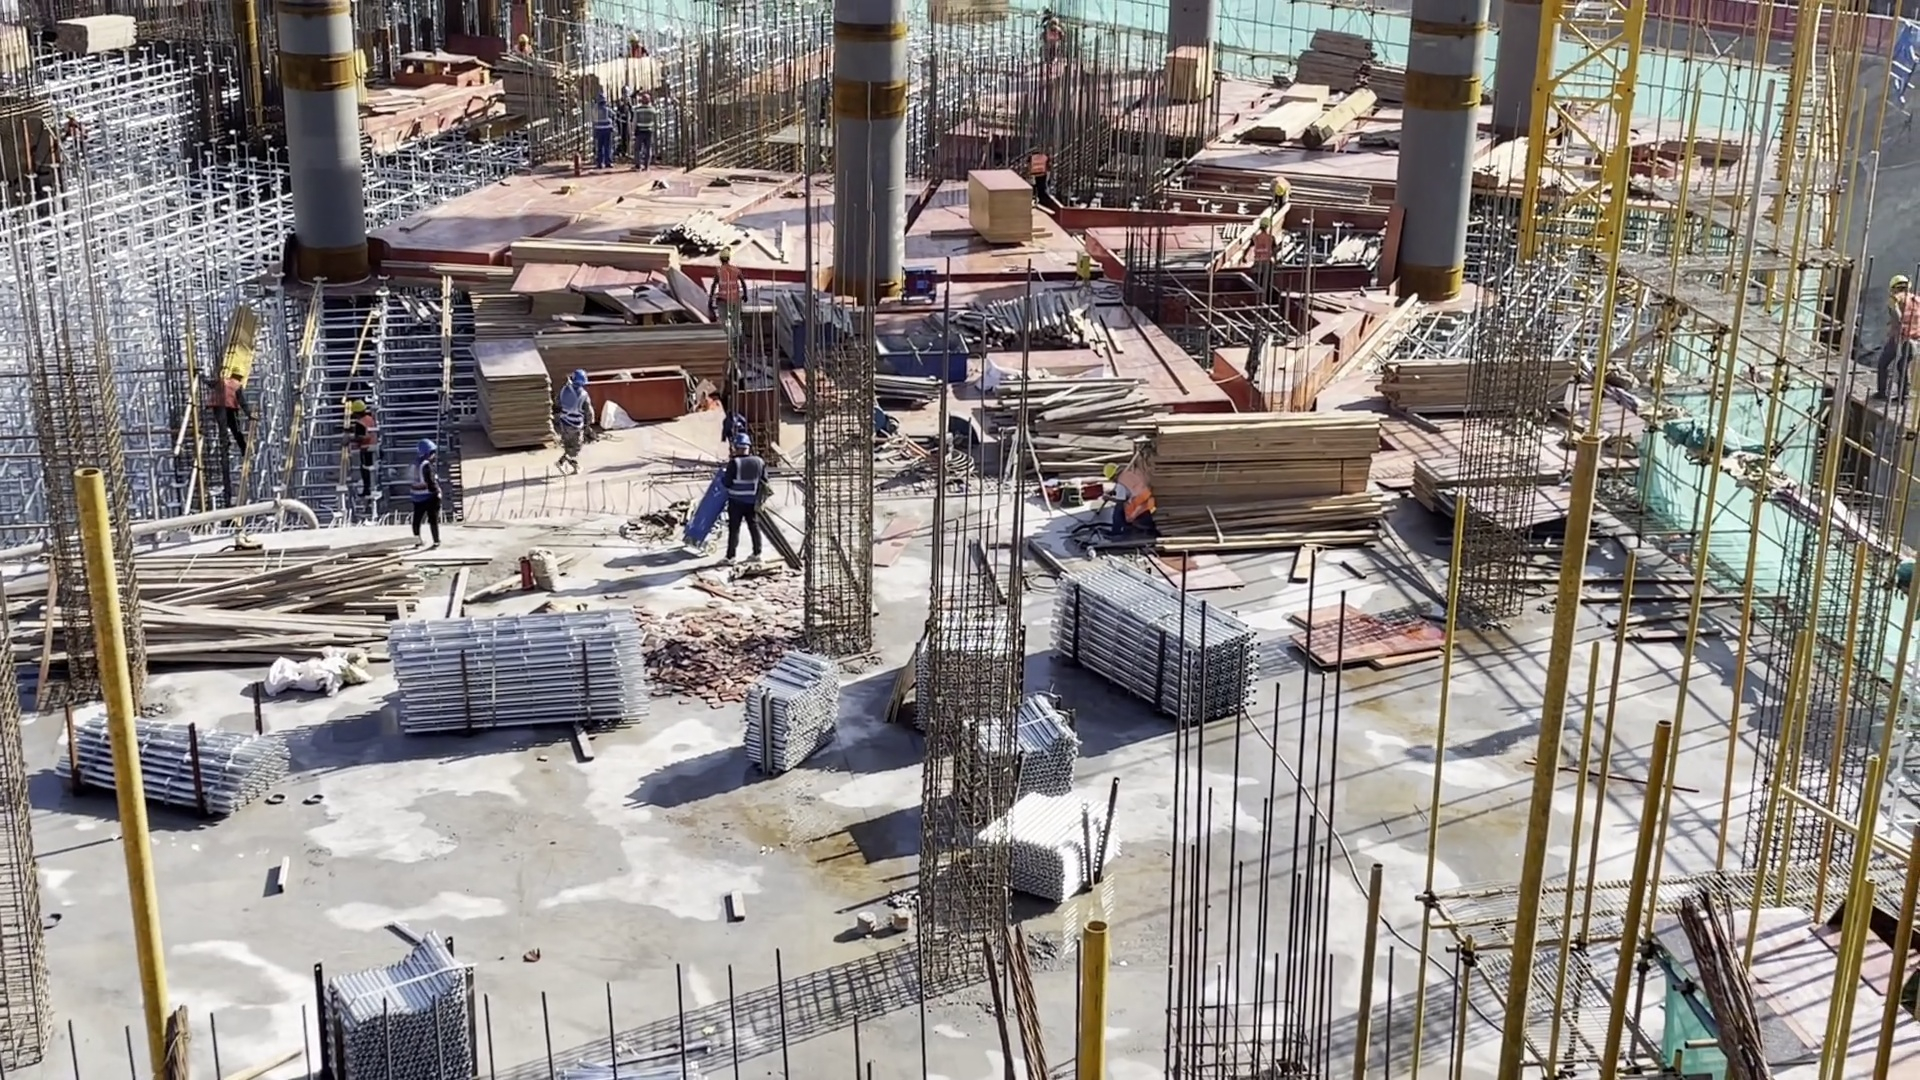helmet: (1886, 262, 1913, 299), (415, 431, 443, 456), (732, 428, 760, 453), (349, 383, 368, 417), (624, 23, 651, 45), (572, 358, 592, 383), (226, 360, 248, 380), (1102, 455, 1119, 479), (638, 87, 656, 105), (513, 28, 530, 45), (615, 81, 630, 96), (591, 88, 607, 103), (1258, 215, 1272, 225)
person: (714, 426, 759, 567), (1097, 448, 1161, 543), (550, 358, 599, 471), (1885, 276, 1920, 398), (210, 357, 256, 448), (407, 430, 443, 539), (342, 380, 382, 470), (1247, 214, 1282, 294), (633, 91, 663, 168), (609, 86, 638, 157), (587, 88, 610, 172), (507, 24, 540, 53), (619, 31, 646, 60)
vest: (726, 452, 763, 494), (1115, 476, 1158, 510), (561, 386, 595, 425), (416, 460, 445, 490), (1250, 227, 1277, 257), (222, 380, 245, 400), (1028, 150, 1049, 167), (359, 424, 380, 440), (591, 104, 605, 126), (644, 107, 658, 125), (616, 103, 627, 123)
